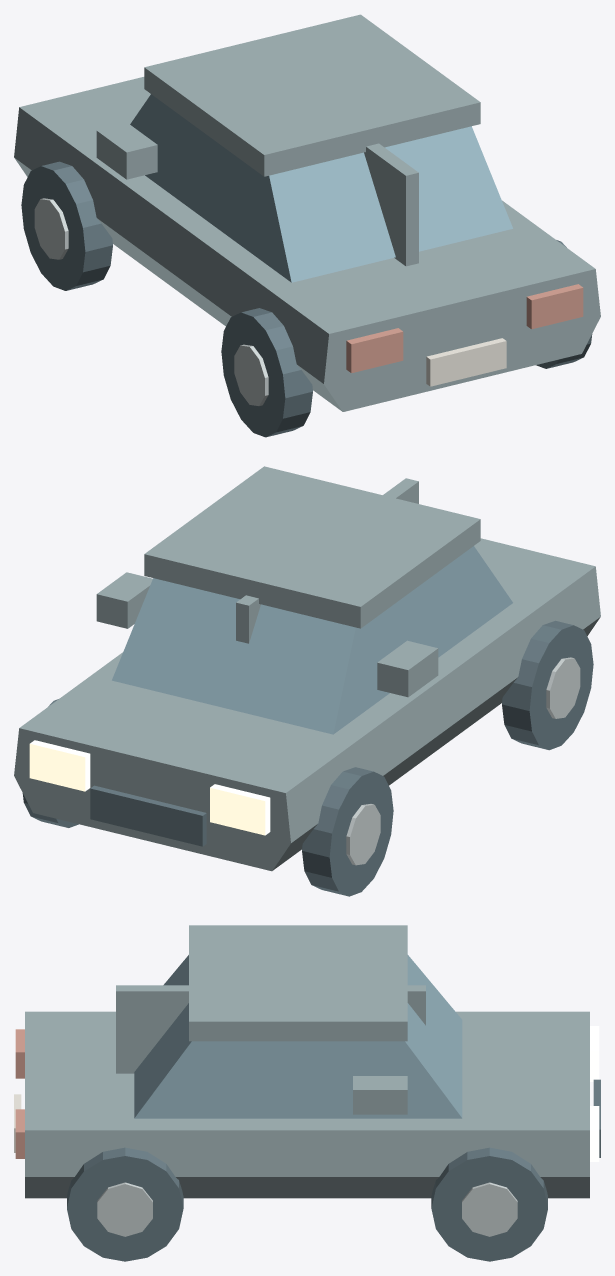
The model's file is remaster_car_6.glb.
The picture shows the model from 3 angles, top to bottom: view 1: azimuth 30°, elevation 25°; view 2: azimuth 150°, elevation 25°; view 3: azimuth 270°, elevation 25°; orthographic projection. The views are drawn at different scales.
Visible parts, largest first — view 1: remaster_car_6 roof, remaster_car_6 glass, remaster_car_6 dark, remaster_car_6 red, remaster_car_6 metal, remaster_car_6 white; view 2: remaster_car_6 roof, remaster_car_6 glass, remaster_car_6 dark, remaster_car_6 warm, remaster_car_6 metal; view 3: remaster_car_6 roof, remaster_car_6 glass, remaster_car_6 dark, remaster_car_6 metal, remaster_car_6 warm, remaster_car_6 red.
Part boxes in pixels (x1=…): remaster_car_6 roof: x1=14, y1=14, x2=600, y2=411; remaster_car_6 glass: x1=130, y1=94, x2=512, y2=282; remaster_car_6 dark: x1=21, y1=161, x2=592, y2=437; remaster_car_6 red: x1=346, y1=284, x2=583, y2=373; remaster_car_6 metal: x1=34, y1=198, x2=268, y2=405; remaster_car_6 white: x1=426, y1=338, x2=506, y2=386; remaster_car_6 roof: x1=14, y1=466, x2=600, y2=871; remaster_car_6 glass: x1=112, y1=546, x2=512, y2=734; remaster_car_6 dark: x1=22, y1=620, x2=593, y2=896; remaster_car_6 warm: x1=29, y1=740, x2=270, y2=835; remaster_car_6 metal: x1=346, y1=657, x2=580, y2=865; remaster_car_6 roof: x1=25, y1=925, x2=589, y2=1198; remaster_car_6 glass: x1=134, y1=955, x2=462, y2=1118; remaster_car_6 dark: x1=67, y1=1079, x2=600, y2=1261; remaster_car_6 metal: x1=97, y1=1182, x2=517, y2=1236; remaster_car_6 warm: x1=590, y1=1026, x2=599, y2=1161; remaster_car_6 red: x1=15, y1=1029, x2=24, y2=1158.
Size of the model in its own units: 1.82 by 1.33 by 3.22.
